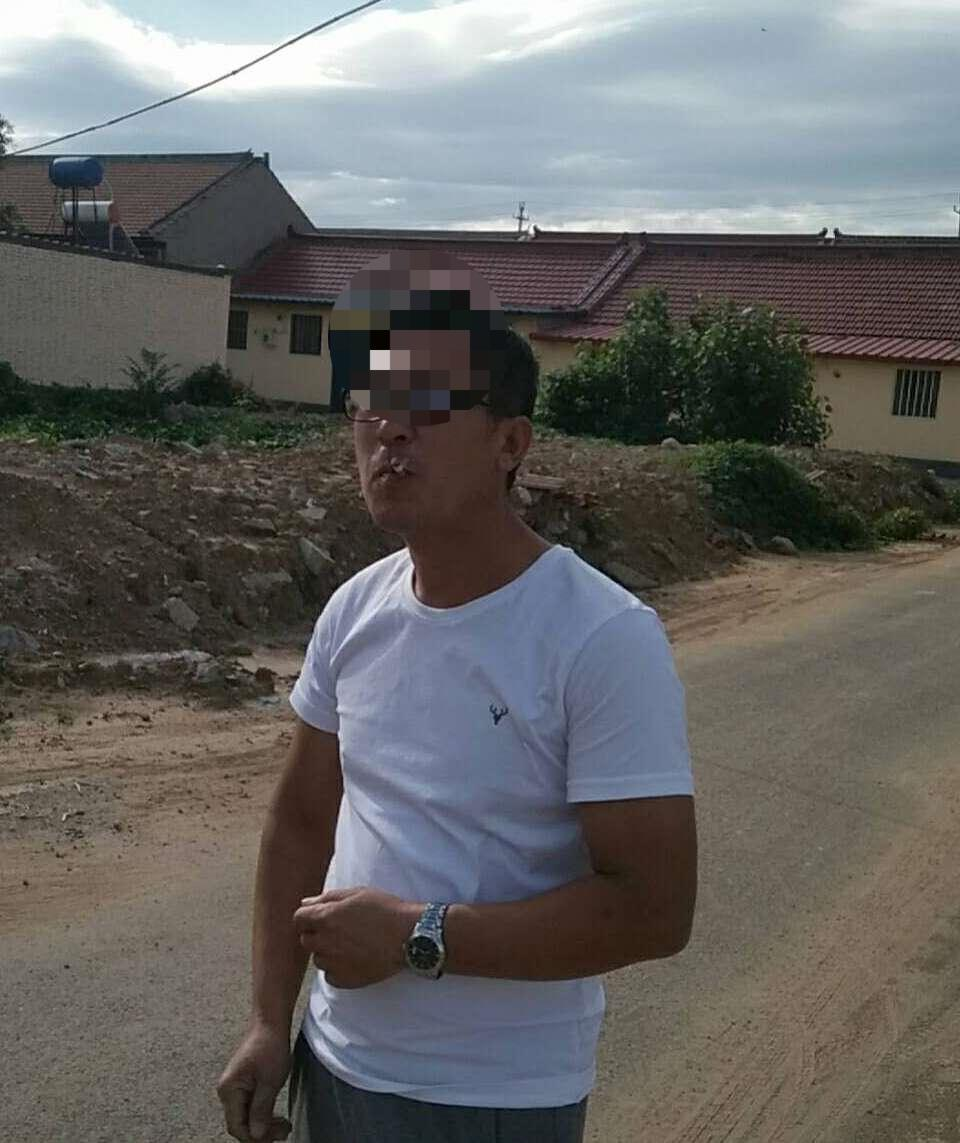smoke: (388, 459, 413, 477)
